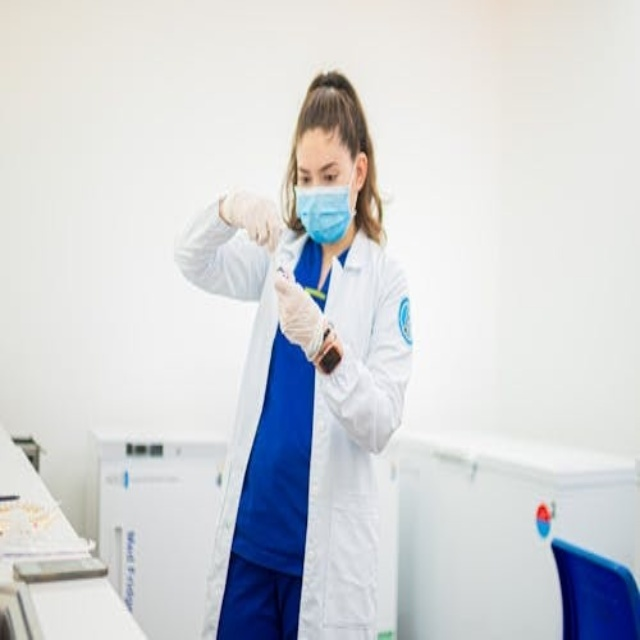Guantes: (274, 270, 331, 364), (221, 189, 284, 252)
Mascara: (294, 169, 357, 243)
Sin_gafas: (297, 154, 346, 188)
